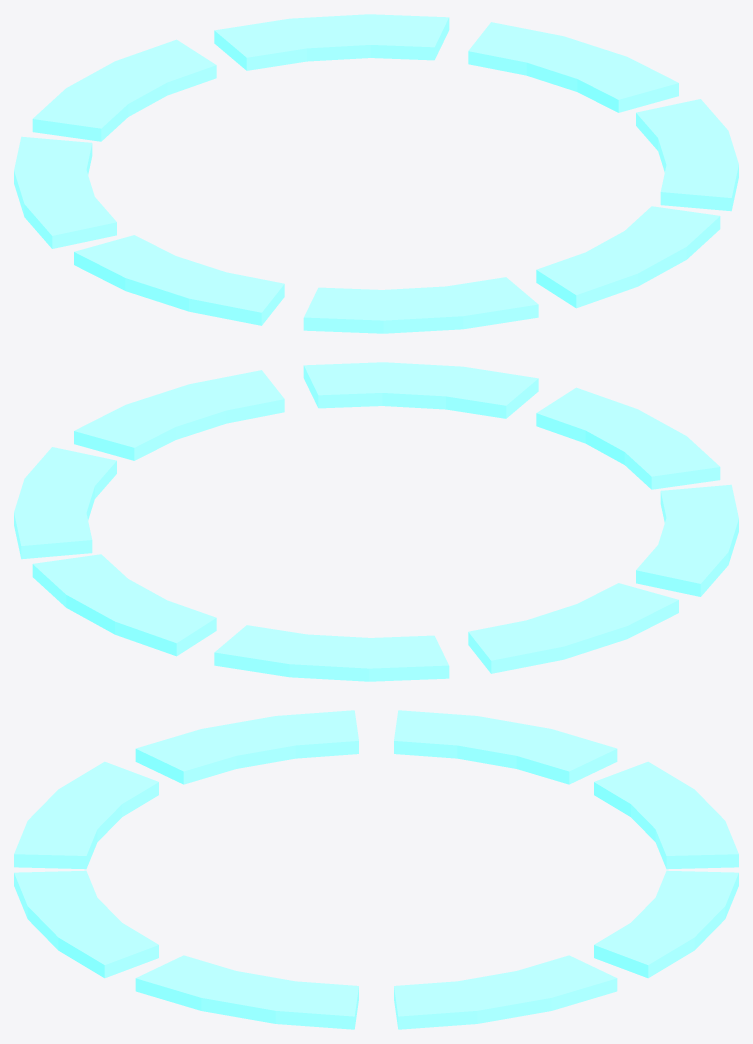
File: fx_tendo_ring.glb
3 renders of one model, top to bottom at view 1: azimuth 30°, elevation 25°; view 2: azimuth 150°, elevation 25°; view 3: azimuth 270°, elevation 25°, orthographic.
Parts seen in each view (by area): view 1: fx_tendo_ring; view 2: fx_tendo_ring; view 3: fx_tendo_ring.
Boxes of the visible parts, left/top/right/bottom form: fx_tendo_ring: left=14, top=14, right=738, bottom=333; fx_tendo_ring: left=14, top=362, right=738, bottom=681; fx_tendo_ring: left=14, top=710, right=738, bottom=1029.
Size of the model in its own units: 2.5 by 0.05 by 2.5.
